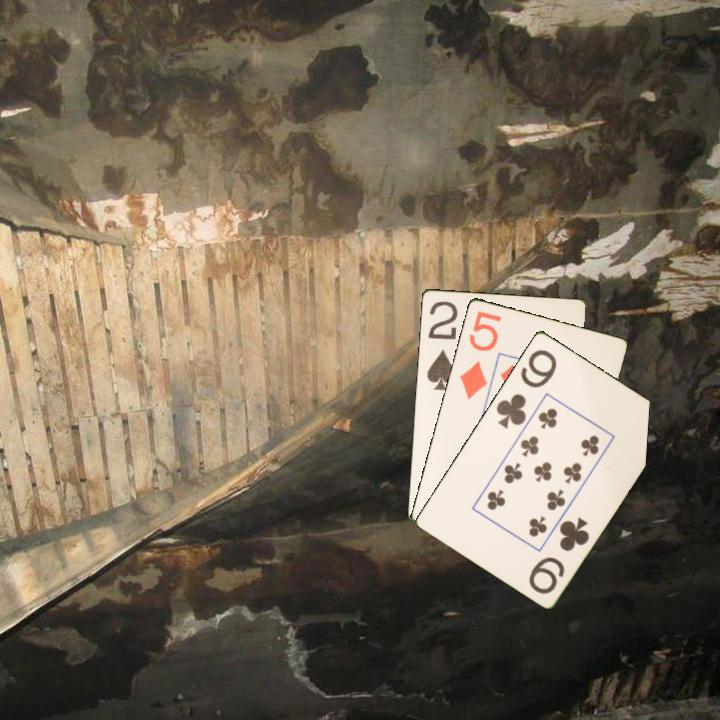2s: (423, 297, 460, 393)
5d: (456, 307, 504, 402)
9c: (492, 345, 560, 431), (525, 513, 592, 597)
